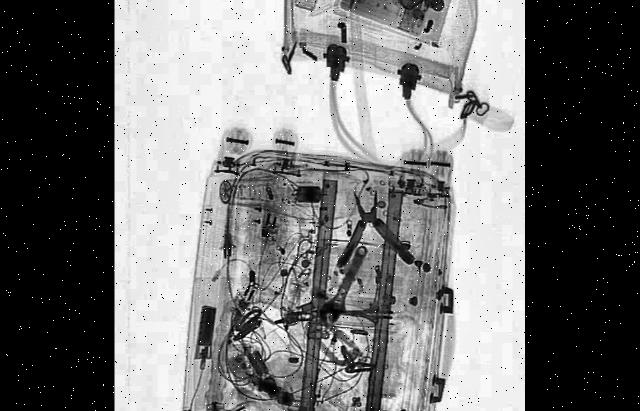Wrench: (314, 234, 370, 340)
